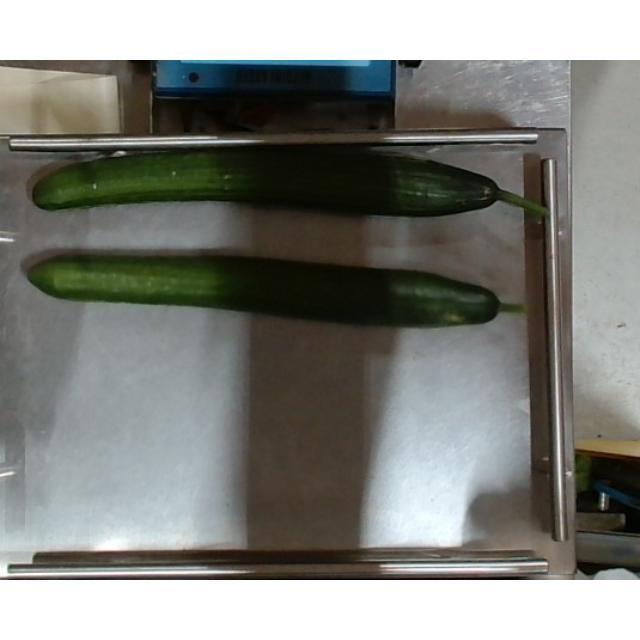cucumber: (25, 246, 529, 330), (35, 147, 557, 220)
